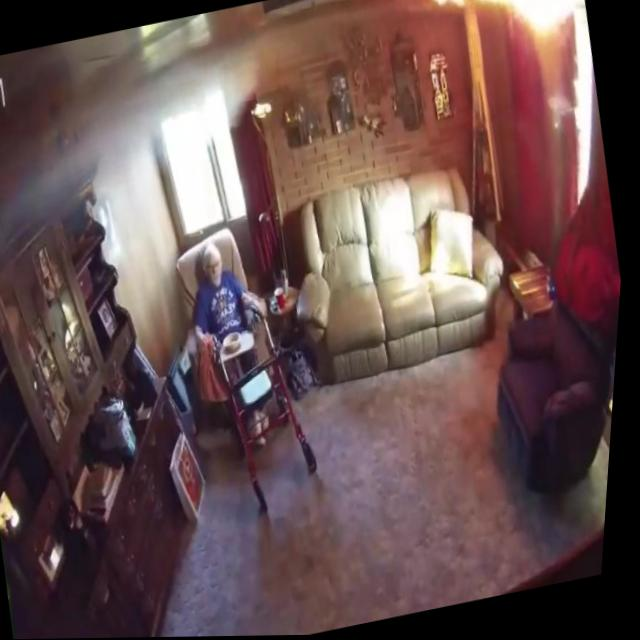fire: (395, 0, 589, 67)
